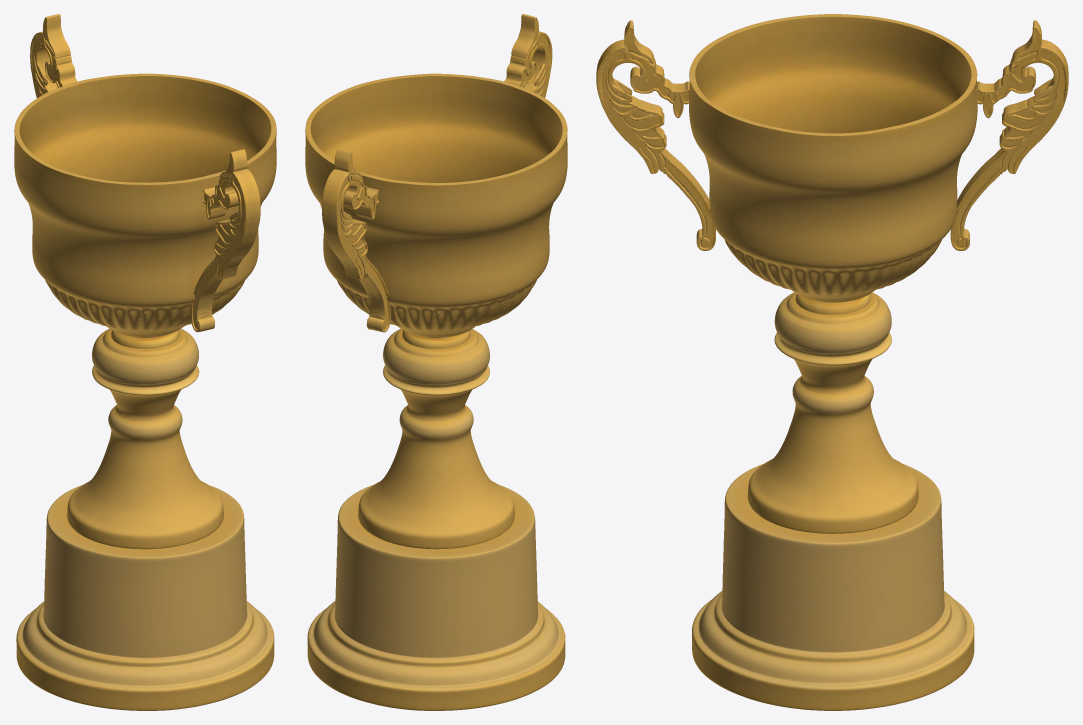
The model's file is gold-trophy-optimized.glb.
The picture shows the model from 3 angles, left to right: view 1: azimuth 30°, elevation 25°; view 2: azimuth 150°, elevation 25°; view 3: azimuth 270°, elevation 25°; orthographic projection. The views are drawn at different scales.
Visible parts, largest first — view 1: tripo_node_00012f86-0622-45be-b8b5-4c98a78e8250; view 2: tripo_node_00012f86-0622-45be-b8b5-4c98a78e8250; view 3: tripo_node_00012f86-0622-45be-b8b5-4c98a78e8250.
Part boxes in pixels (bbox=[...]): tripo_node_00012f86-0622-45be-b8b5-4c98a78e8250: bbox=[14, 14, 276, 710]; tripo_node_00012f86-0622-45be-b8b5-4c98a78e8250: bbox=[305, 14, 567, 710]; tripo_node_00012f86-0622-45be-b8b5-4c98a78e8250: bbox=[596, 14, 1068, 710].
Bounding box in the file's own units: 0.1247 × 0.3 × 0.2042.
Materials: 1 (1 with a texture image).
